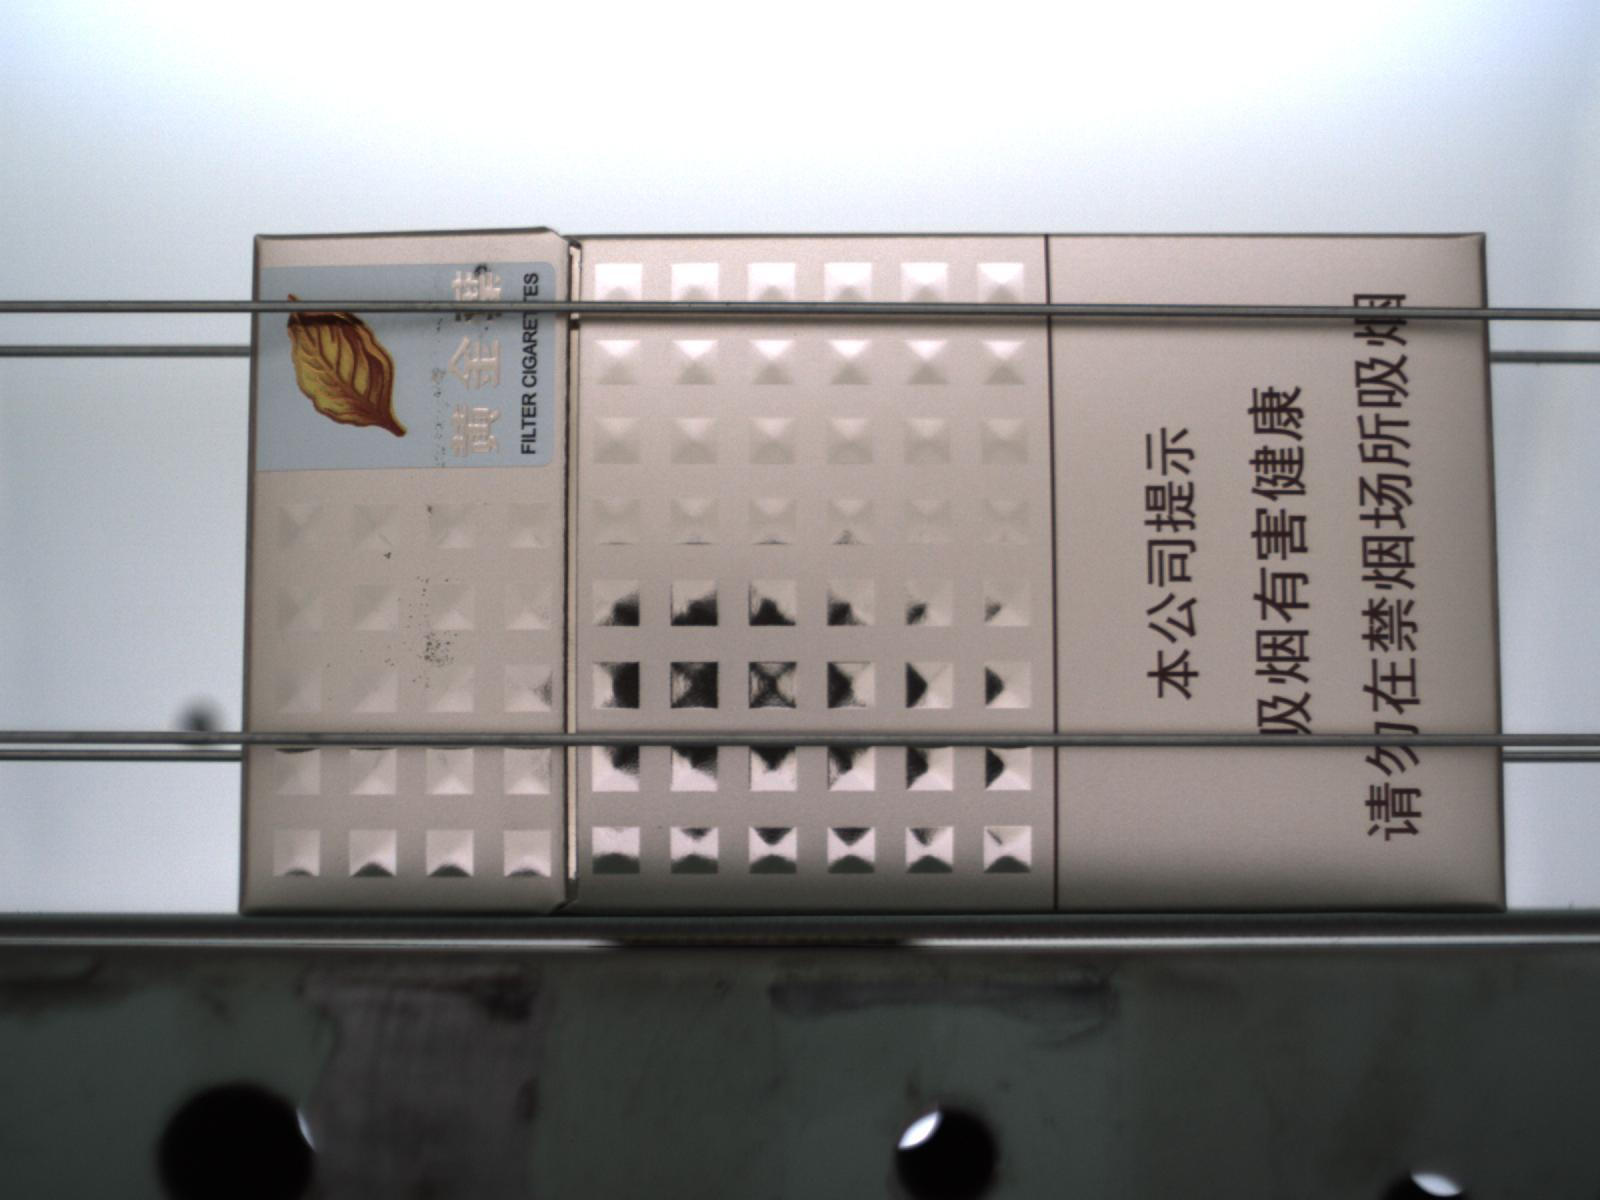dirtySpot: (382, 550, 396, 563), (425, 503, 437, 517), (413, 677, 425, 688), (383, 655, 394, 666), (325, 661, 335, 671)
